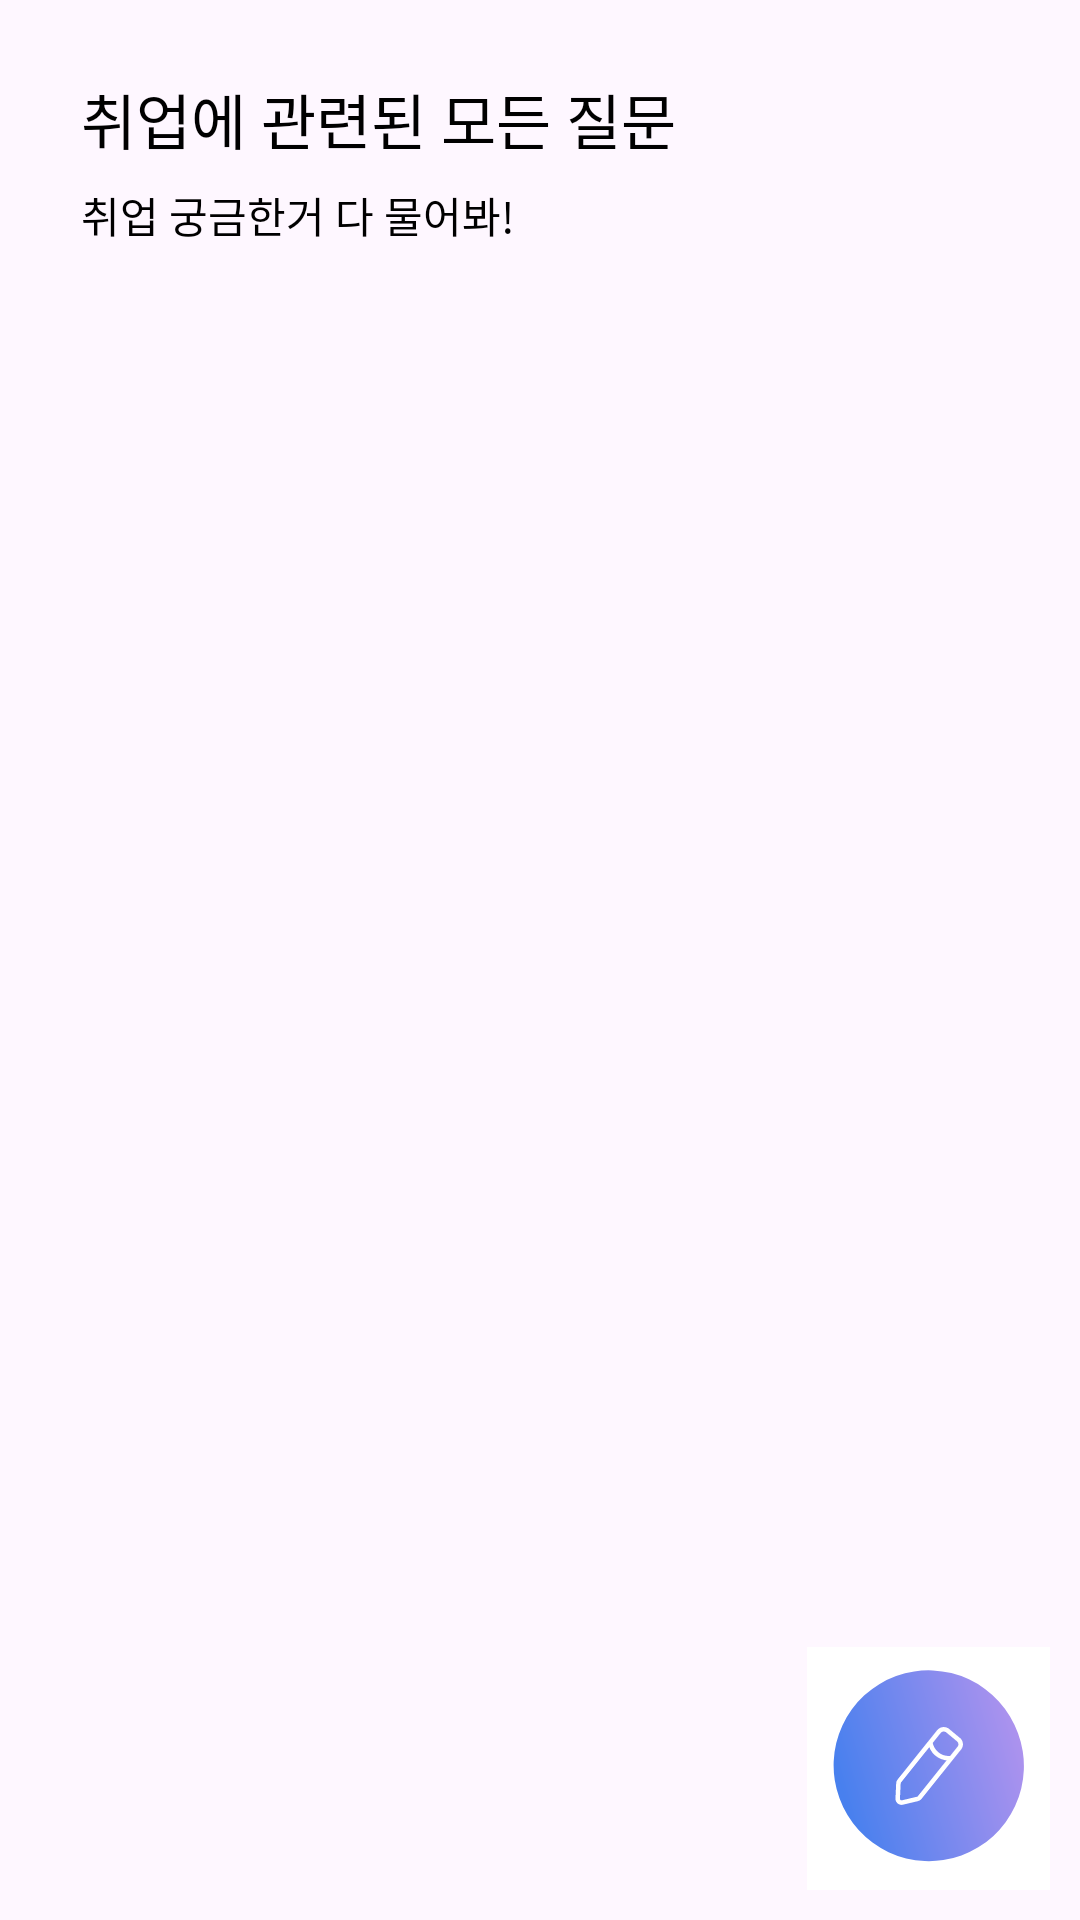

Where icons sit on this 1080px×1920px app screen, as (x1, y1, x2, y2):
add post: (833, 1670, 1024, 1862)
